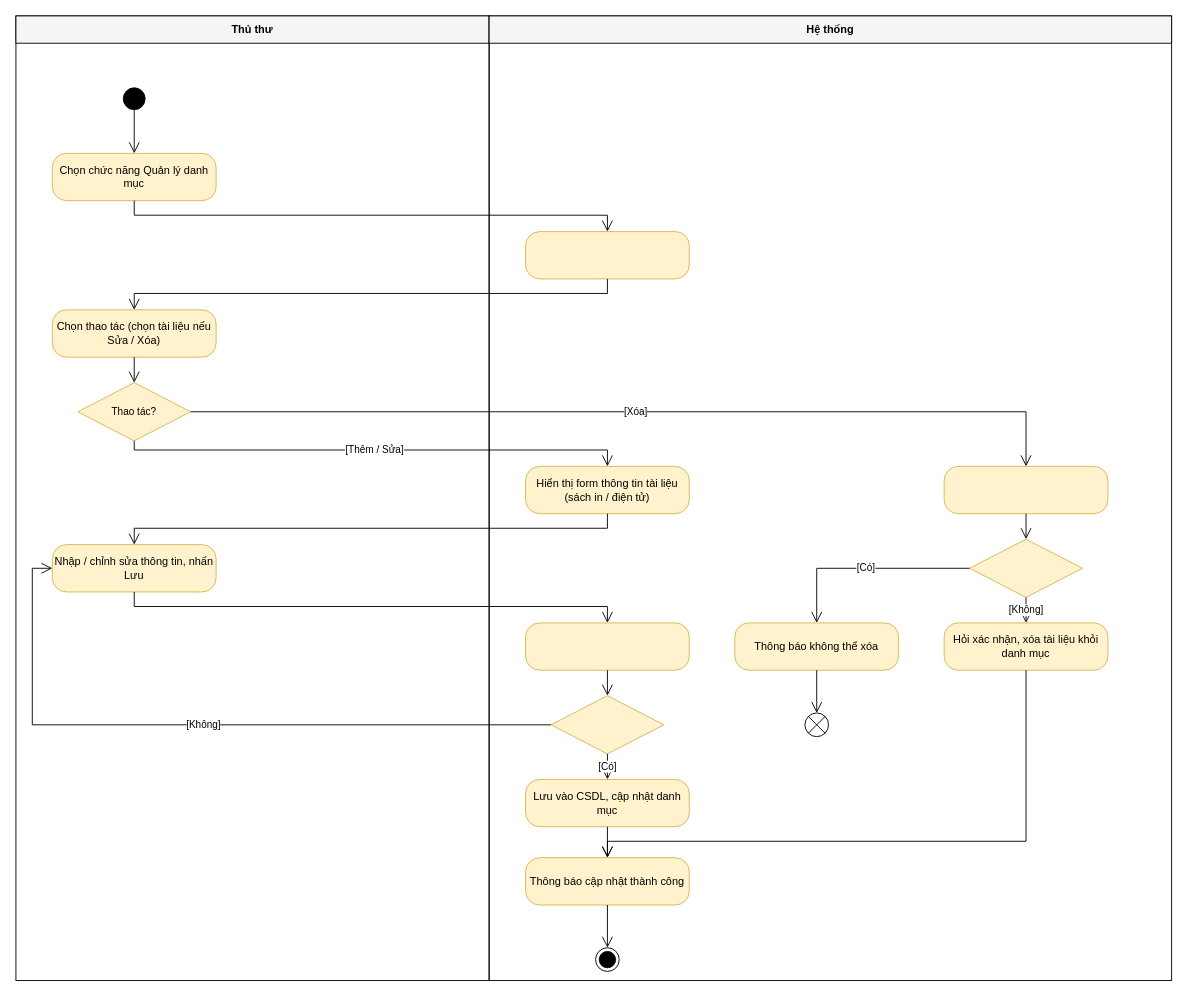
The diagram is 1188 pixels wide and 996 high, and some of its shapes have lost their labels. Each missing label, with the centre of its shape:
Hiển thị danh sách tài liệu và nút Thêm / Sửa / Xóa: pixel 607 255
Hợp lệ?: pixel 607 724
Kiểm tra dữ liệu: pixel 607 646
Kiểm tra tài liệu có đang được mượn: pixel 1025 489
Đang được mượn?: pixel 1025 567
